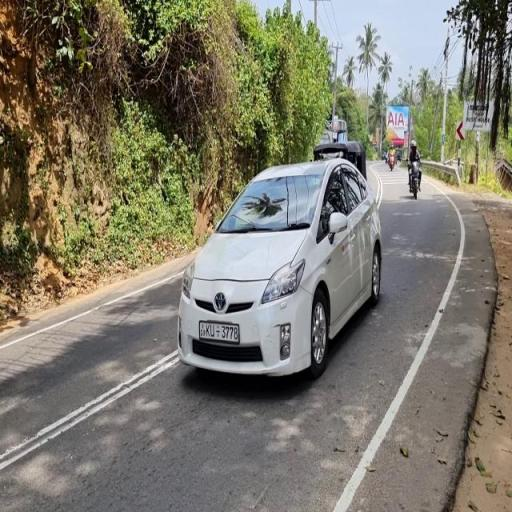double_white_line: (1, 342, 179, 472)
